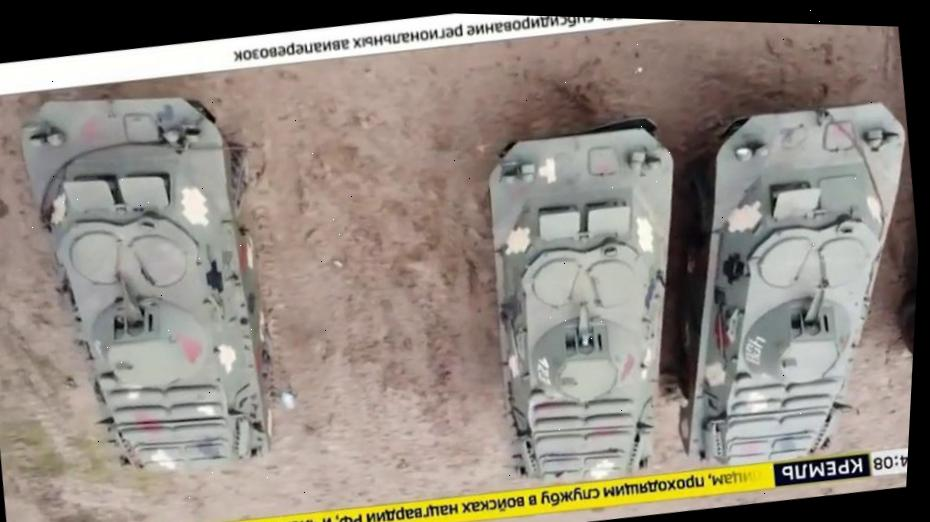tank: (0, 72, 297, 491), (631, 90, 926, 476), (460, 108, 719, 494)
